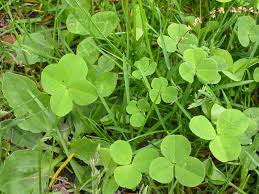4-clover: (41, 54, 101, 116)
